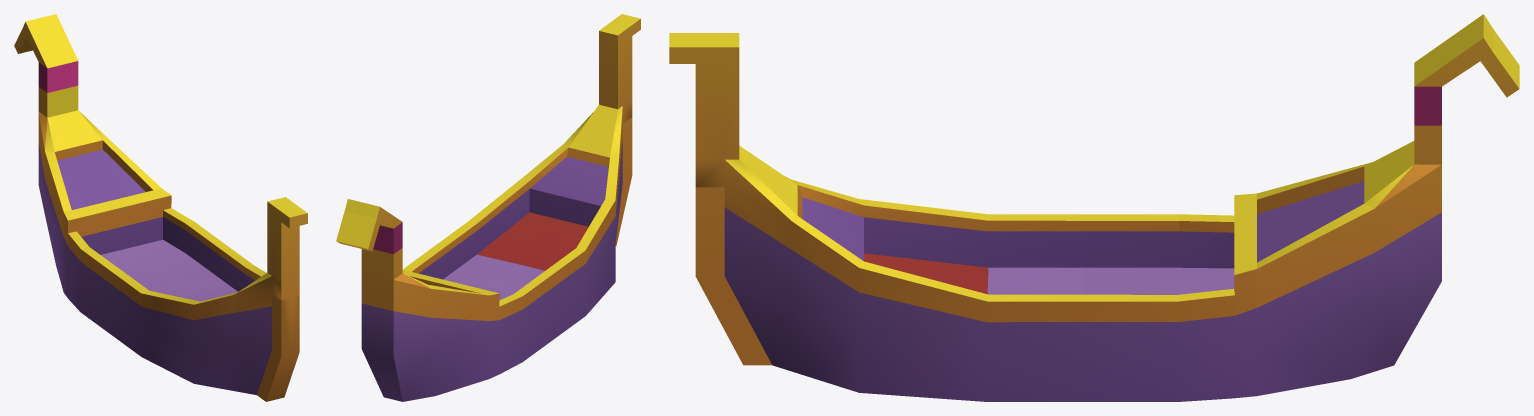
Rendered from Scene_3_Lv4_RiverBoat_2.FBX.
3 renders of one model, left to right at view 1: azimuth 30°, elevation 25°; view 2: azimuth 150°, elevation 25°; view 3: azimuth 270°, elevation 25°, orthographic. The views are drawn at different scales.
Visible parts, largest first — view 1: Scene_3_Lv4_RiverBoat_2; view 2: Scene_3_Lv4_RiverBoat_2; view 3: Scene_3_Lv4_RiverBoat_2.
Boxes of the visible parts, x1,y1,x2,y2 form: Scene_3_Lv4_RiverBoat_2: (14, 14, 307, 401); Scene_3_Lv4_RiverBoat_2: (336, 14, 640, 401); Scene_3_Lv4_RiverBoat_2: (669, 14, 1519, 401).
Size of the model in its own units: 156 by 276 by 640.
